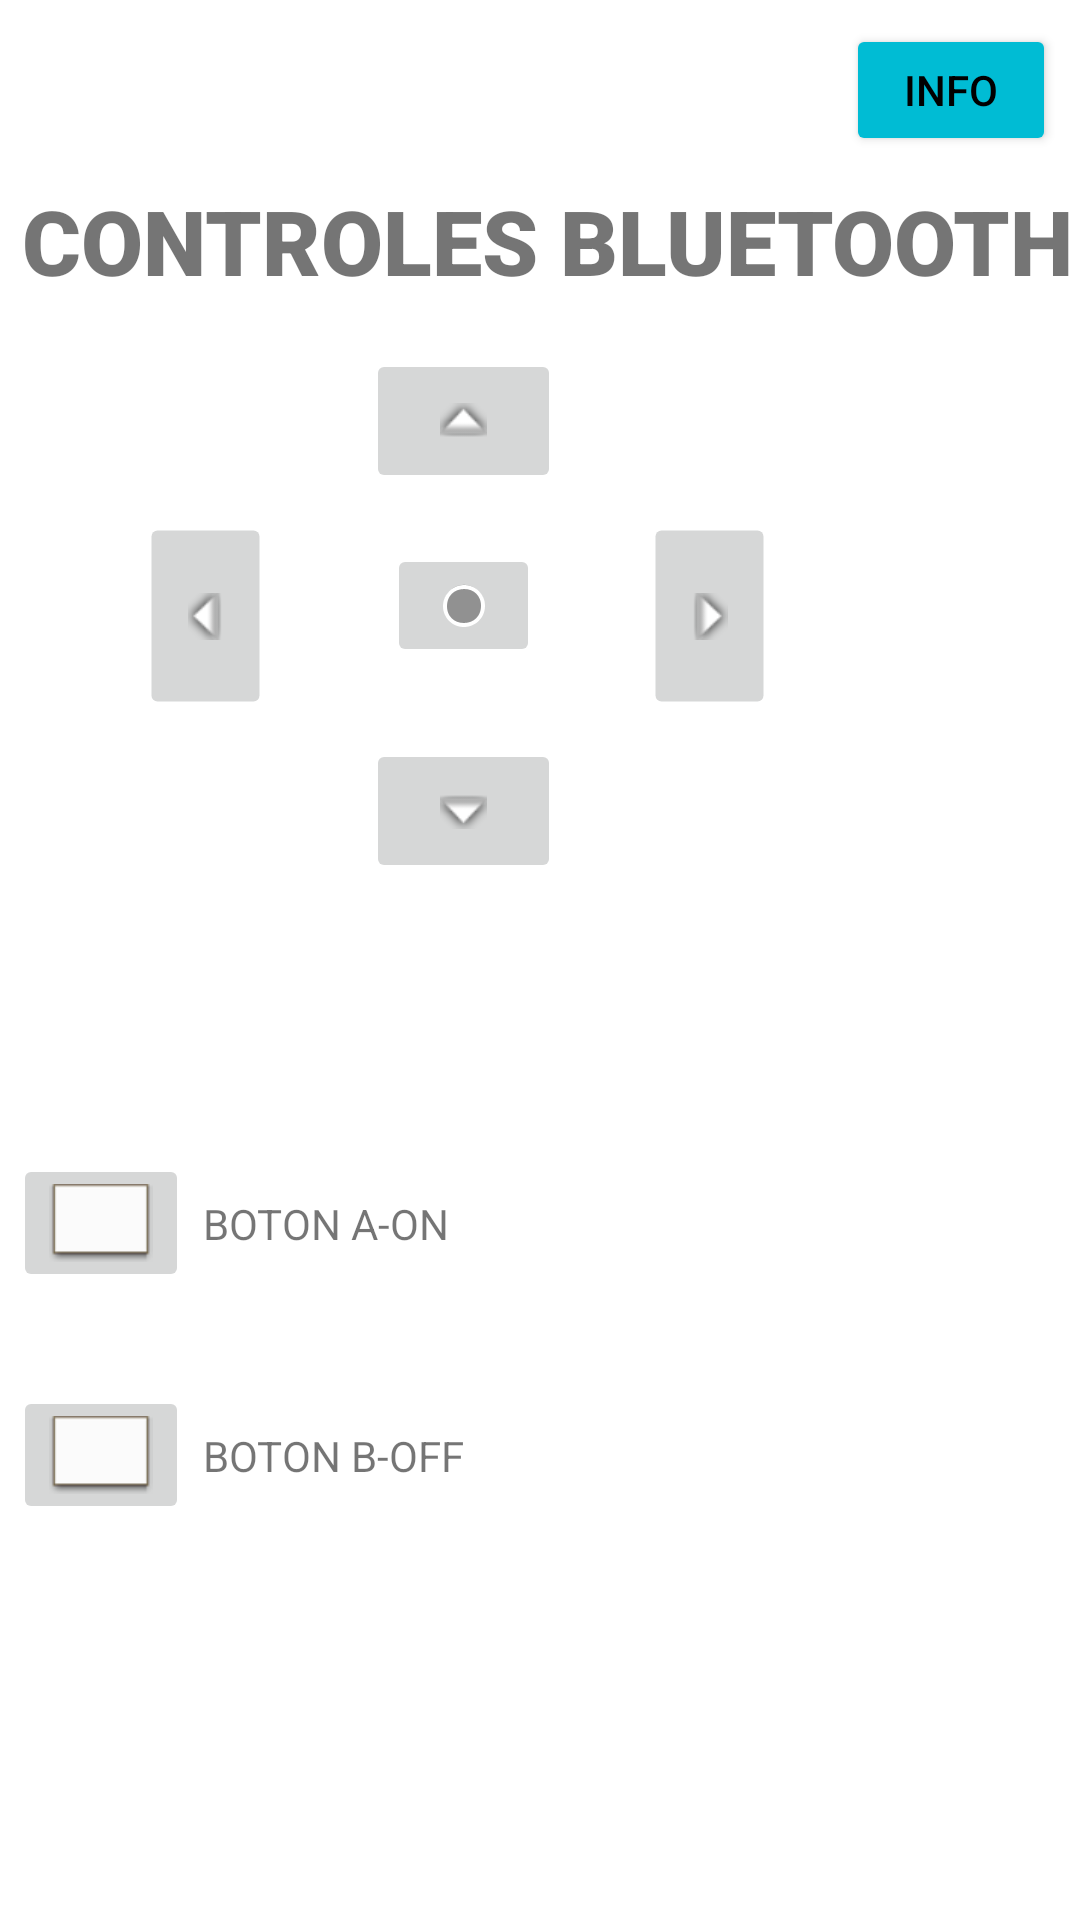

Icon click points for this 1080*1920 phone screenshot, format (x=x, y=y):
presence invisible: (x=463, y=605)
